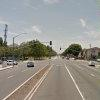Car: (21, 56, 41, 72)
